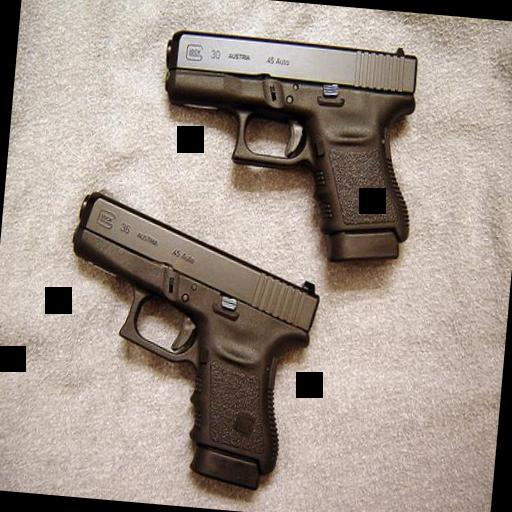Handgun: (50, 184, 326, 495), (144, 24, 427, 265)
